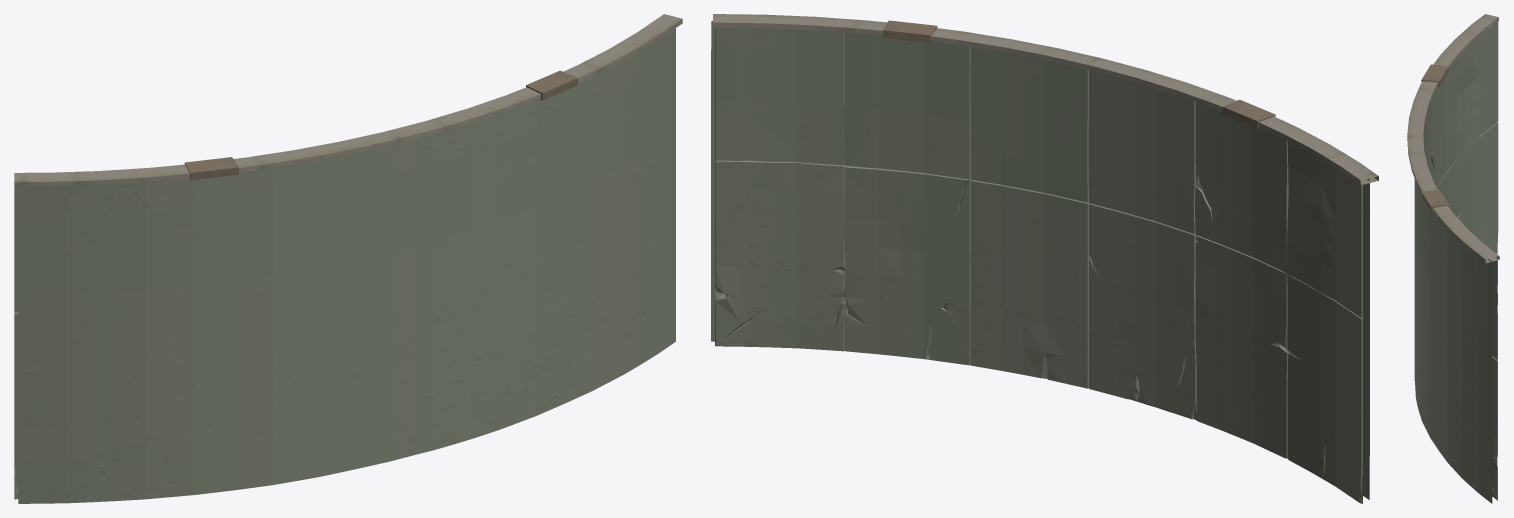
Rendered from SM_ENV_TCHEXA_ArenaWall_A.fbx.
The picture shows the model from 3 angles, left to right: view 1: azimuth 30°, elevation 25°; view 2: azimuth 150°, elevation 25°; view 3: azimuth 270°, elevation 25°; orthographic projection. The views are drawn at different scales.
Parts seen in each view (by area): view 1: SM_ENV_TCHEXA_ArenaWall_A.mo; view 2: SM_ENV_TCHEXA_ArenaWall_A.mo; view 3: SM_ENV_TCHEXA_ArenaWall_A.mo.
Part boxes in pixels (left/top/right/bottom): SM_ENV_TCHEXA_ArenaWall_A.mo: left=14, top=14, right=682, bottom=503; SM_ENV_TCHEXA_ArenaWall_A.mo: left=711, top=14, right=1378, bottom=503; SM_ENV_TCHEXA_ArenaWall_A.mo: left=1407, top=14, right=1499, bottom=503.
Bounding box in the file's own units: 6451 × 3016 × 1024.
